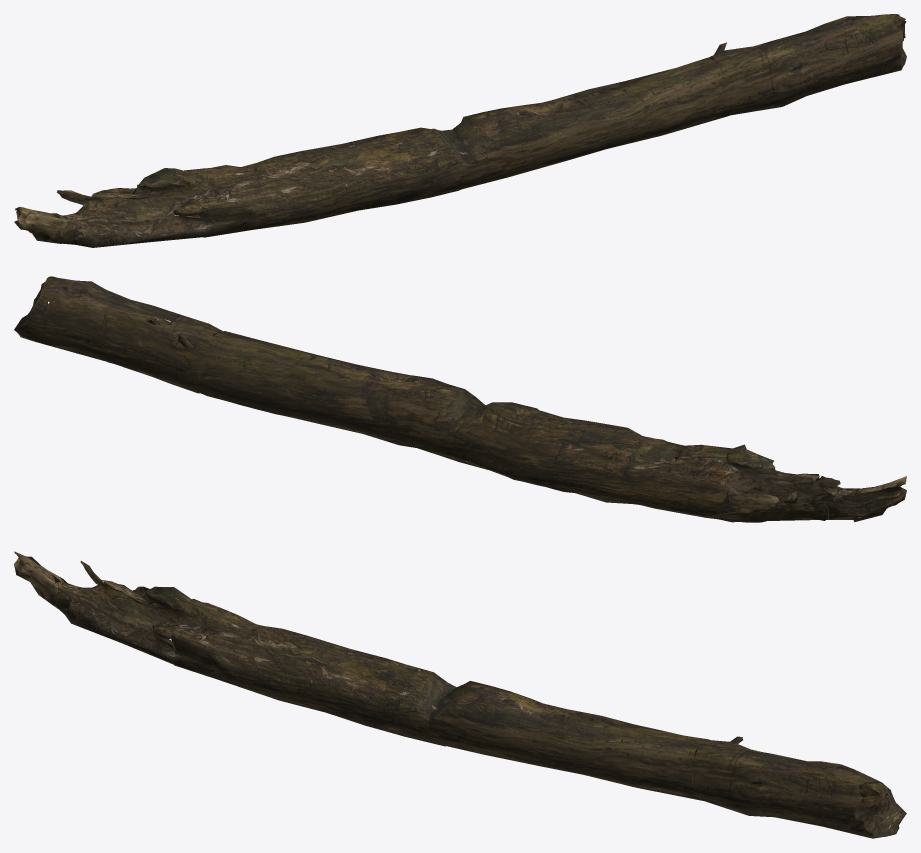
The model's file is dead_tree_trunk_mobil.glb.
3 views of the same model, one above another, from view 1: azimuth 30°, elevation 25°; view 2: azimuth 150°, elevation 25°; view 3: azimuth 330°, elevation 25° (orthographic).
Parts seen in each view (by area): view 1: dead_tree_trunk; view 2: dead_tree_trunk; view 3: dead_tree_trunk.
Boxes of the visible parts, left/top/right/bottom form: dead_tree_trunk: left=14, top=14, right=906, bottom=247; dead_tree_trunk: left=14, top=276, right=906, bottom=522; dead_tree_trunk: left=14, top=551, right=906, bottom=838.
Size of the model in its own units: 3.05 by 0.2937 by 0.2732.
Materials: 1 (1 with a texture image).
